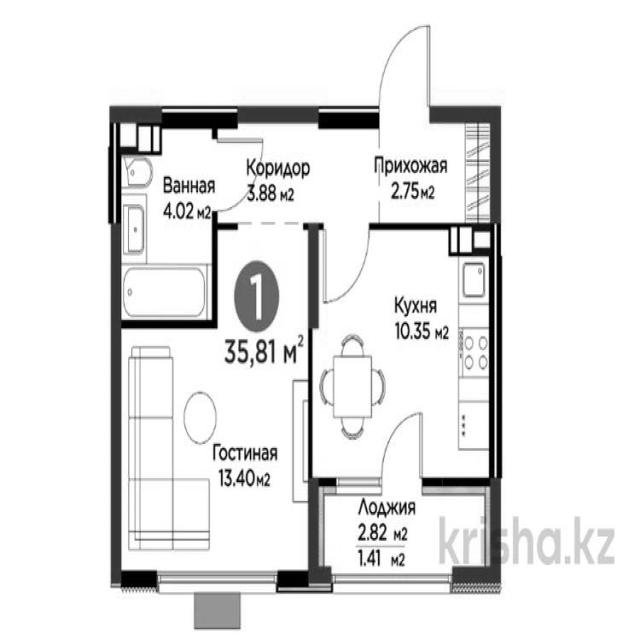balcony: (314, 491, 492, 580)
bathroom: (118, 154, 212, 322)
hallway: (215, 126, 496, 222)
kitchen: (312, 227, 498, 482)
living_room: (117, 322, 310, 578)
